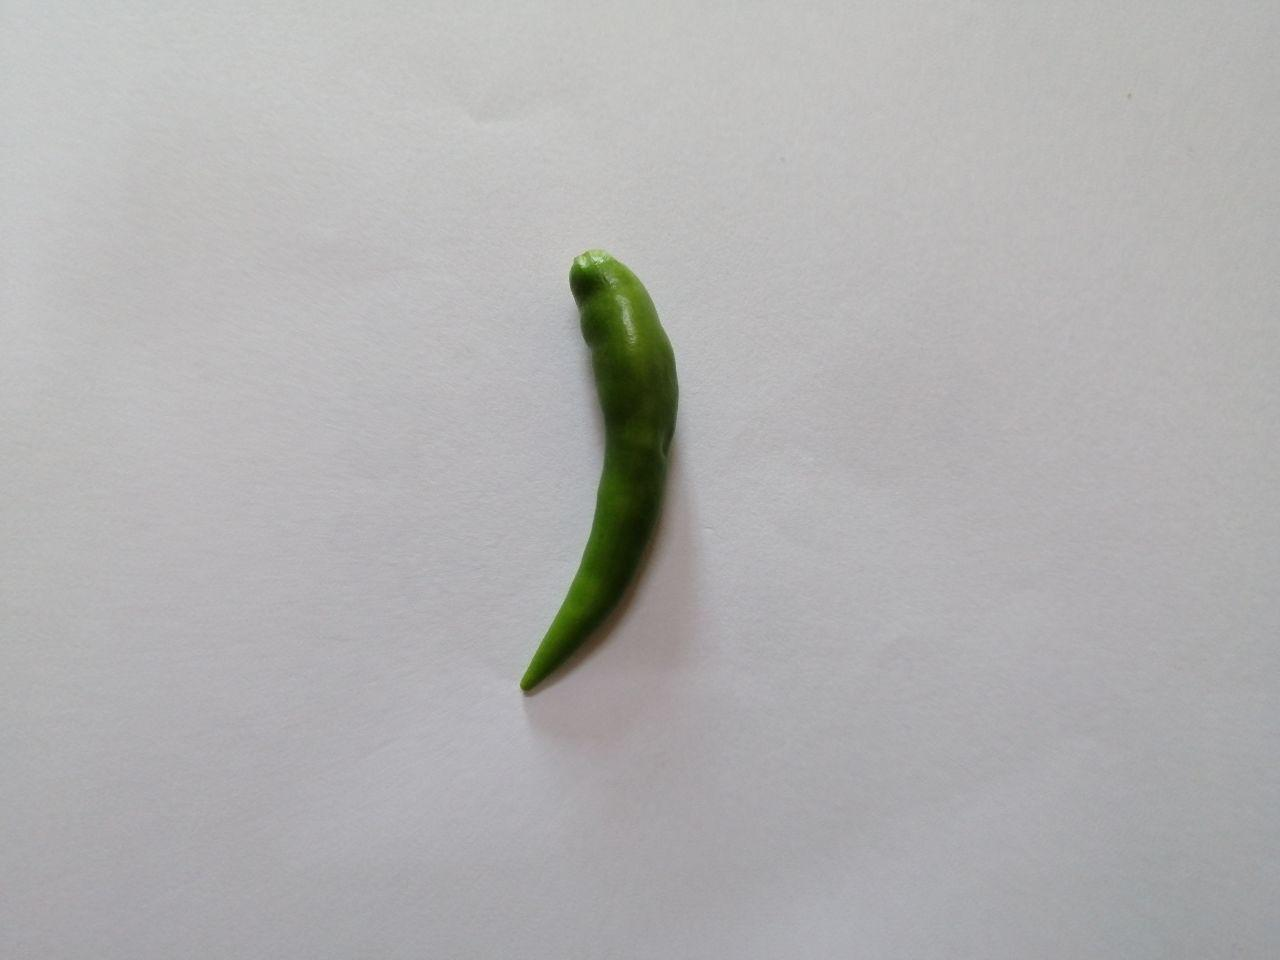lada hijau: (516, 215, 694, 725)
